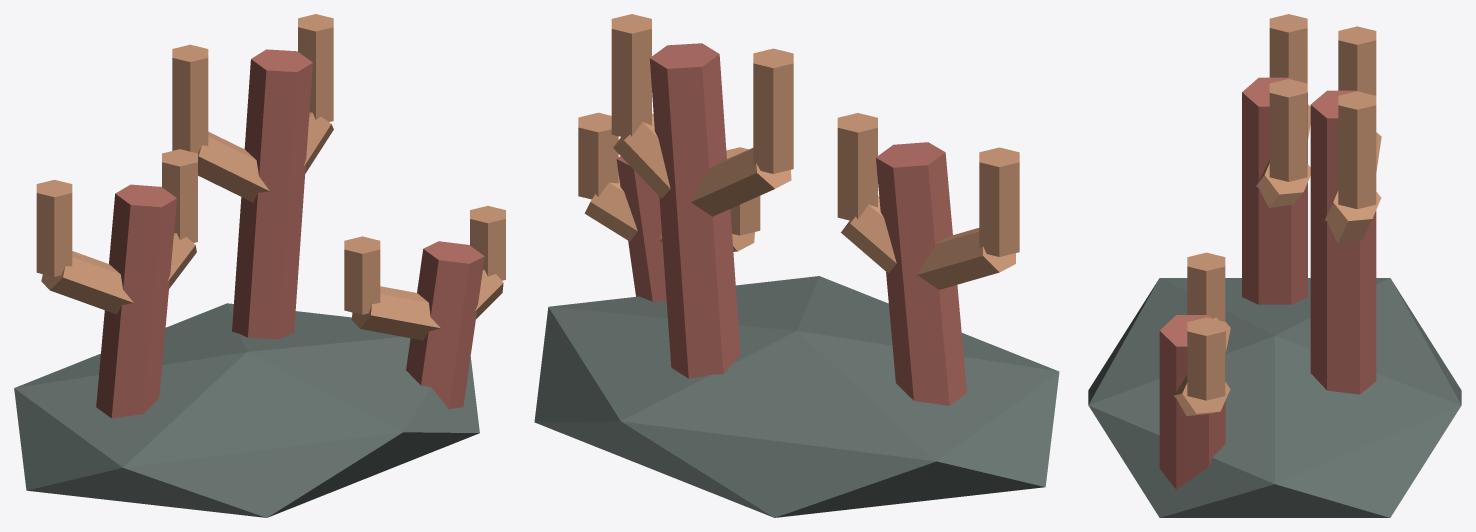
File: PirateCove_CoralCluster_Simple.glb
3 renders of one model, left to right at view 1: azimuth 30°, elevation 25°; view 2: azimuth 150°, elevation 25°; view 3: azimuth 270°, elevation 25°, orthographic. The views are drawn at different scales.
Parts seen in each view (by area): view 1: PirateCove_CoralCluster_Simple; view 2: PirateCove_CoralCluster_Simple; view 3: PirateCove_CoralCluster_Simple.
Part boxes in pixels (<box>): PirateCove_CoralCluster_Simple: <box>14,14,505,517</box>; PirateCove_CoralCluster_Simple: <box>534,14,1059,517</box>; PirateCove_CoralCluster_Simple: <box>1088,14,1461,517</box>.
Size of the model in its own units: 1.99 by 1.67 by 1.36.
